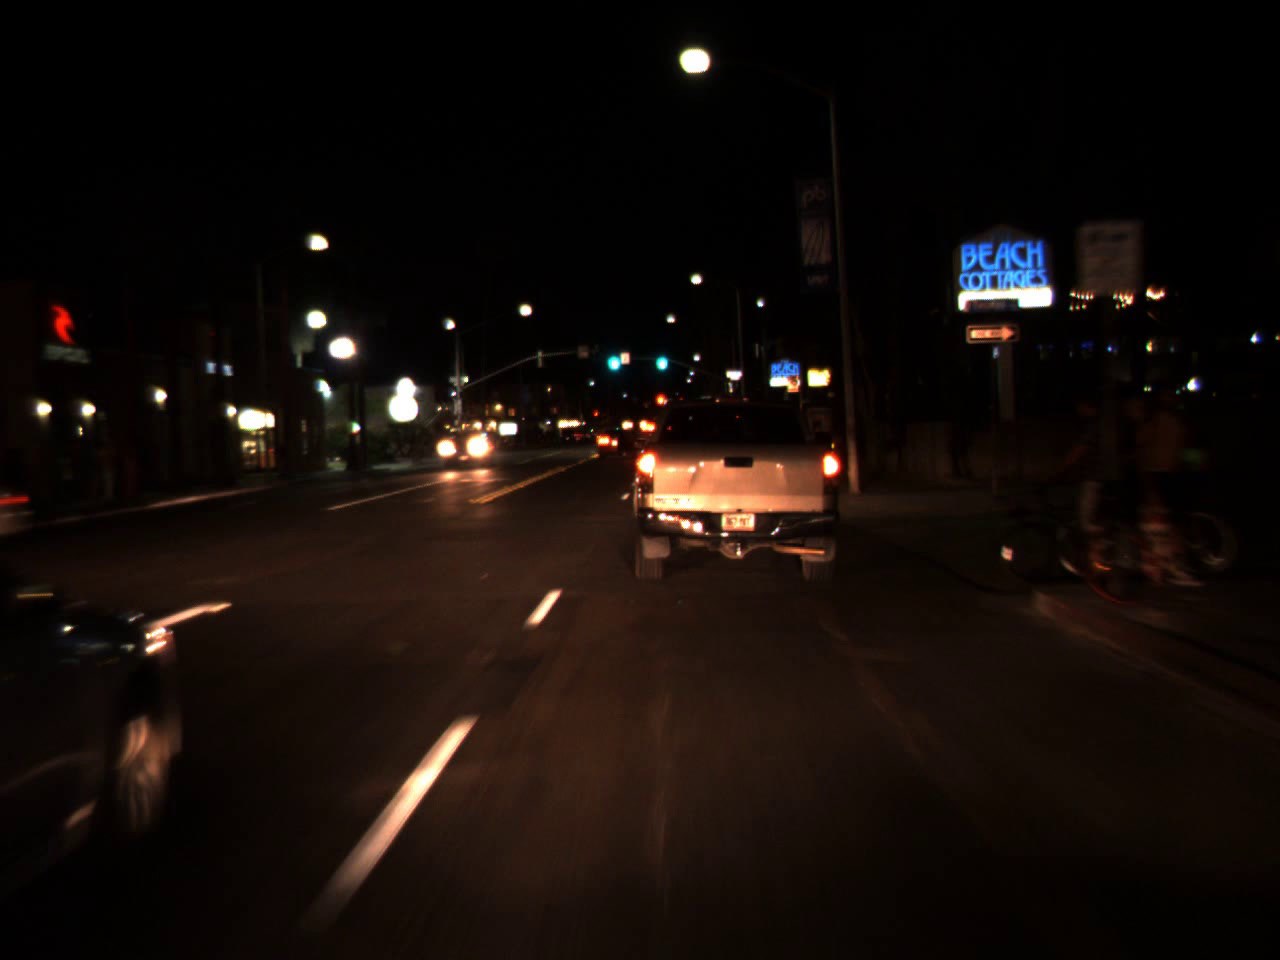go: (601, 339, 624, 375), (652, 341, 670, 374)
